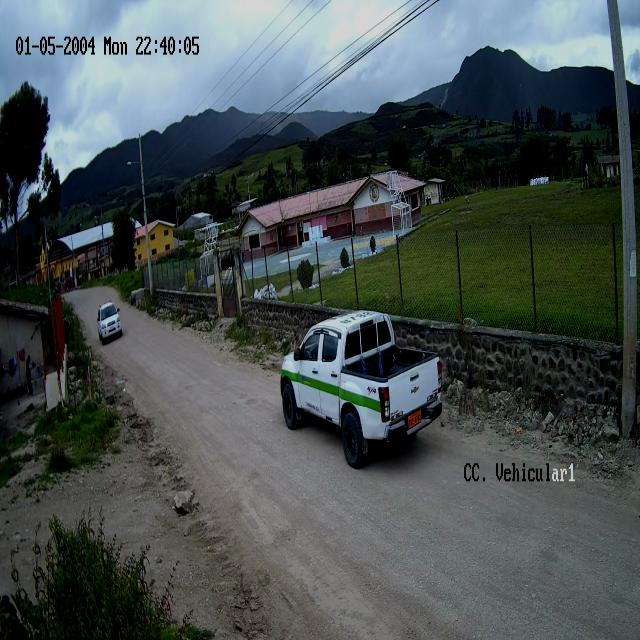CMT: (280, 312, 443, 470)
SUV: (94, 300, 124, 345)
